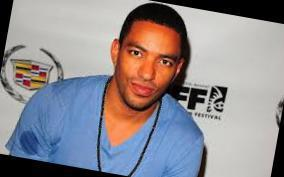Sober: (121, 28, 175, 105)
